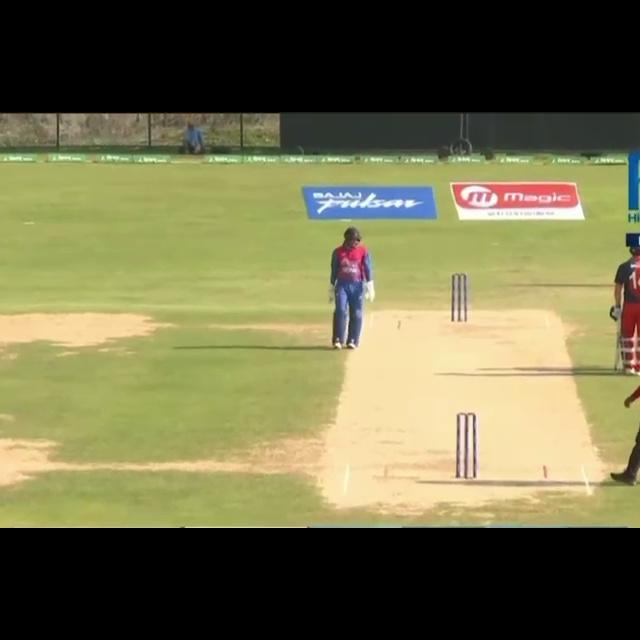umpire: (610, 320, 640, 487)
